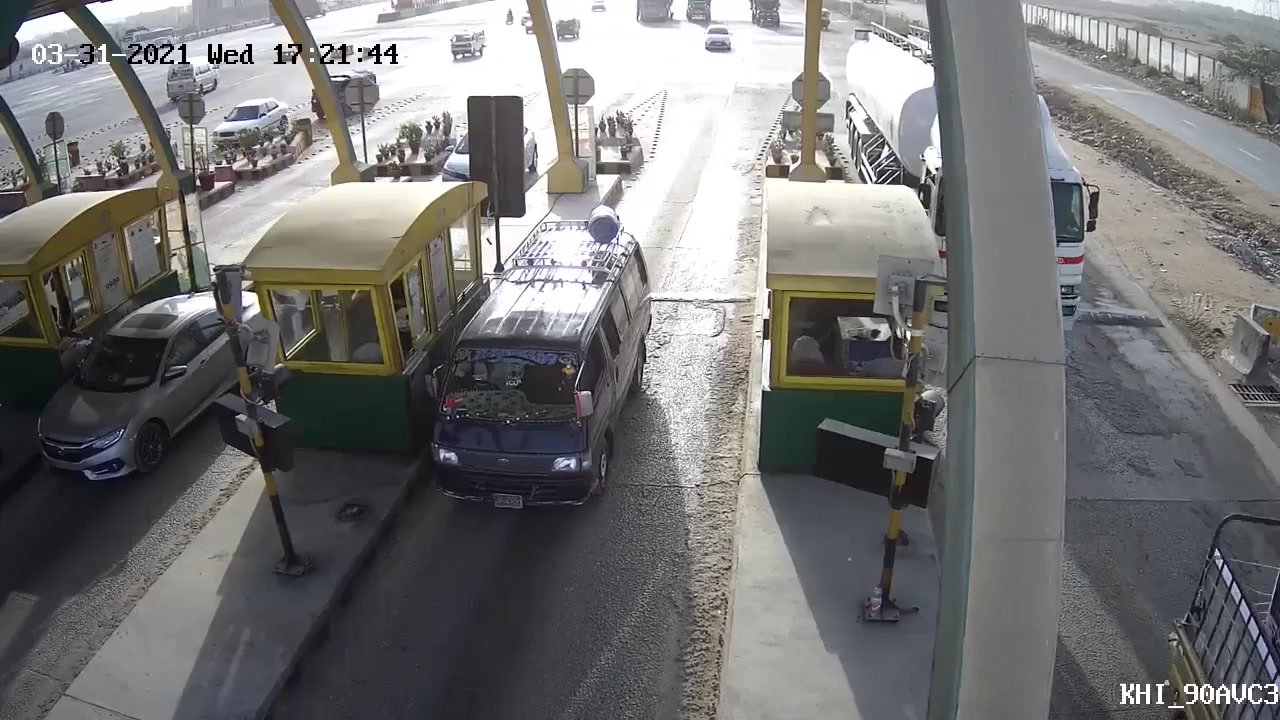F2: (418, 222, 660, 518)
